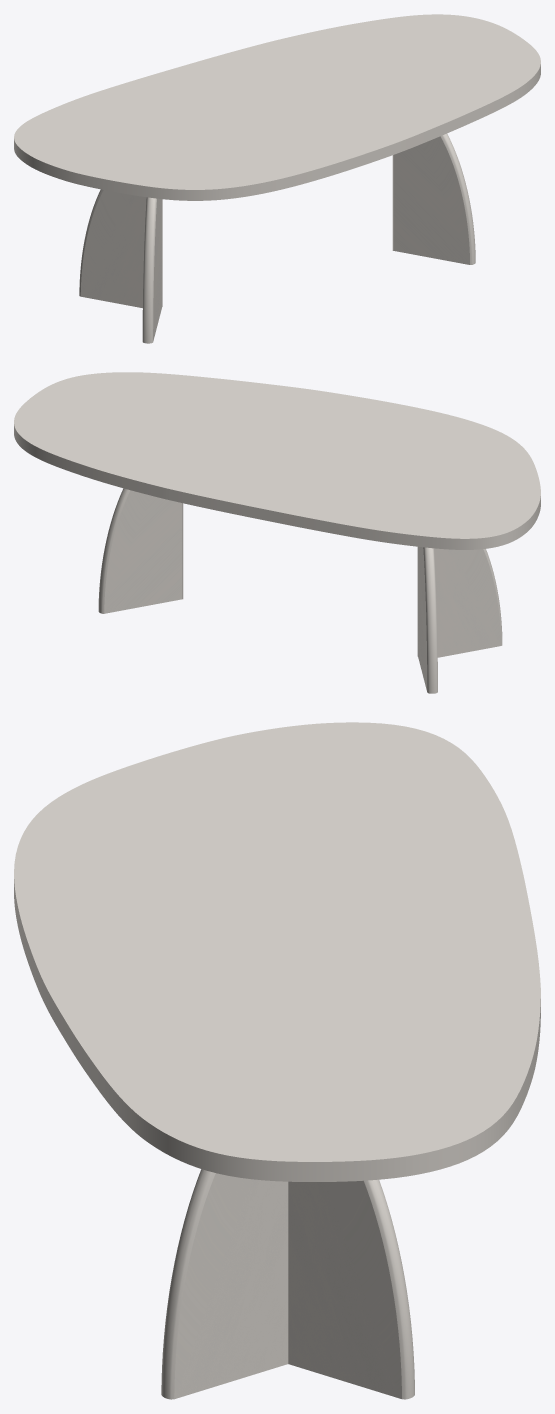
Rendered from pearlwhite_leaf2_standard_newtable2.glb.
3 views of the same model, one above another, from view 1: azimuth 30°, elevation 25°; view 2: azimuth 150°, elevation 25°; view 3: azimuth 270°, elevation 25° (orthographic). The views are drawn at different scales.
Visible parts, largest first — view 1: standard_leaf2, newtable2_singleright2, newtable2_singleleft1, newtable2_singleright1; view 2: standard_leaf2, newtable2_singleleft2, newtable2_singleright1, newtable2_singleleft1; view 3: standard_leaf2, newtable2_singleright2, newtable2_singleleft2.
Part boxes in pixels (box(x1,y1,x2,y2)): standard_leaf2: box(14, 14, 540, 200); newtable2_singleright2: box(393, 133, 475, 264); newtable2_singleleft1: box(79, 189, 162, 308); newtable2_singleright1: box(142, 197, 162, 343); standard_leaf2: box(14, 372, 540, 549); newtable2_singleleft2: box(98, 488, 183, 613); newtable2_singleright1: box(417, 547, 502, 657); newtable2_singleleft1: box(418, 546, 437, 693); standard_leaf2: box(14, 722, 540, 1181); newtable2_singleright2: box(161, 1169, 288, 1399); newtable2_singleleft2: box(288, 1179, 414, 1399).
Bounding box in the file's own units: 7.5 × 2.52 × 3.8.
1 material, 1 textured.
